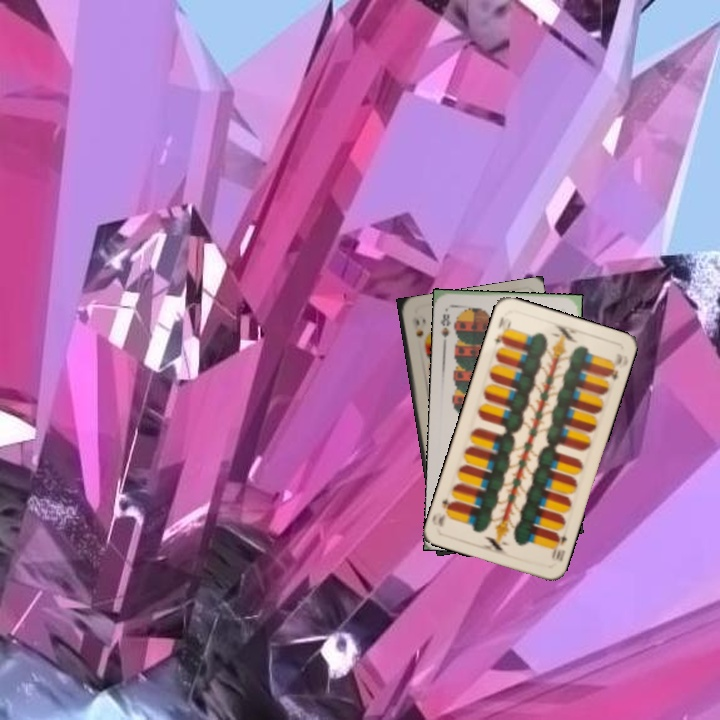E10: (491, 312, 514, 349), (547, 527, 569, 564)
S10: (407, 312, 425, 341)
S8: (437, 310, 453, 345)
